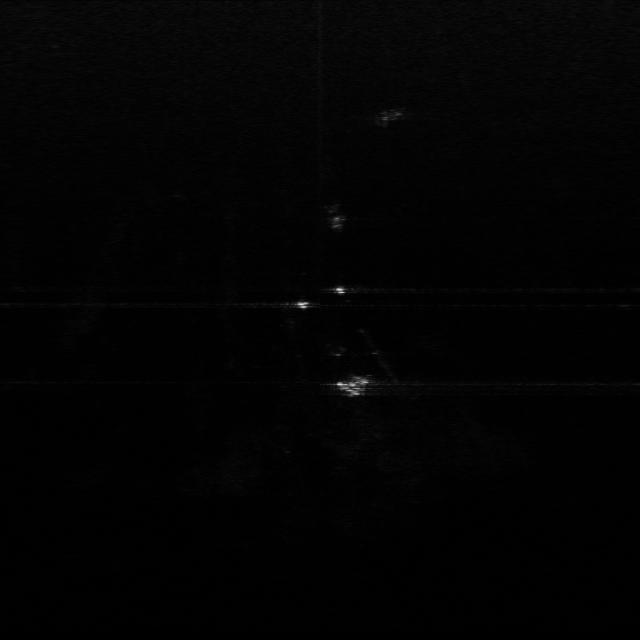rov: (336, 375, 373, 398)
